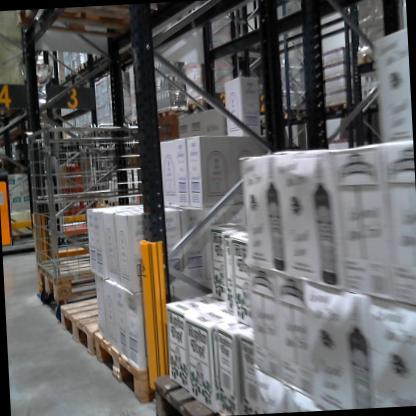pallet: (17, 2, 160, 48), (94, 322, 161, 411), (59, 286, 135, 361), (150, 367, 232, 416), (31, 257, 109, 301), (265, 105, 309, 126), (183, 95, 212, 115), (322, 97, 353, 113), (158, 104, 179, 118), (130, 114, 148, 127), (80, 58, 91, 71), (62, 71, 72, 81), (90, 53, 99, 64), (74, 62, 81, 72), (68, 68, 75, 77)
pallet_truck: (0, 139, 52, 256)
